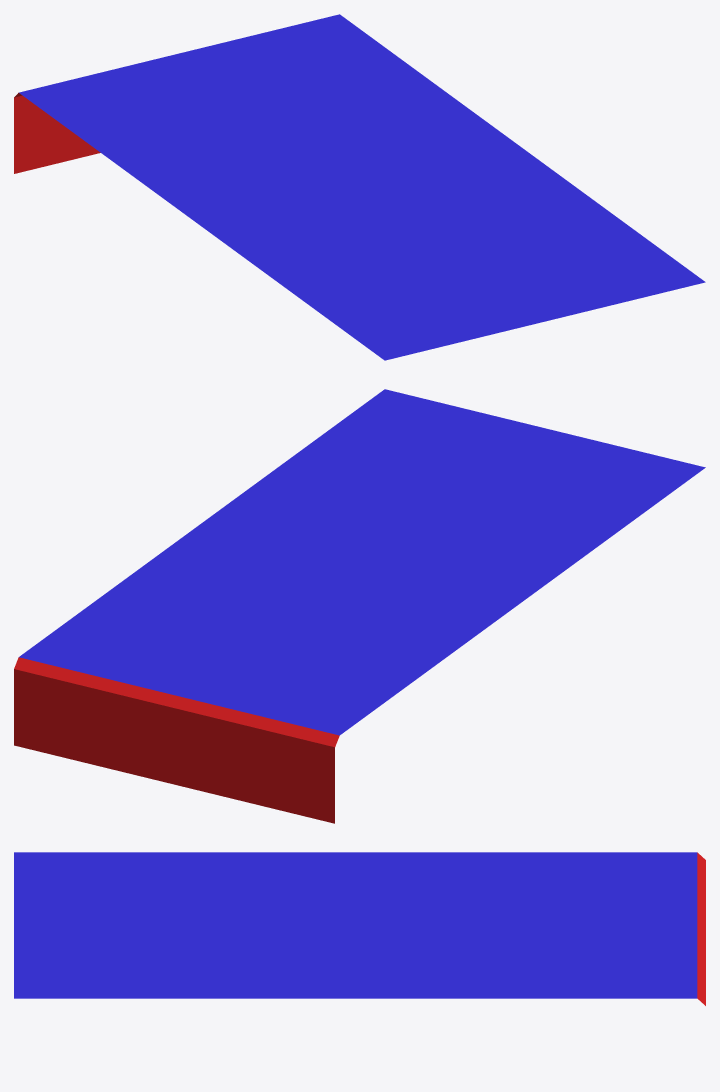
File: SideWalk_incomplete.fbx
3 renders of one model, top to bottom at view 1: azimuth 30°, elevation 25°; view 2: azimuth 150°, elevation 25°; view 3: azimuth 270°, elevation 25°, orthographic. The views are drawn at different scales.
Visible parts, largest first — view 1: Calzada_incompleta; view 2: Calzada_incompleta; view 3: Calzada_incompleta.
Boxes of the visible parts, x1,y1,x2,y2 form: Calzada_incompleta: (14,14,705,360); Calzada_incompleta: (14,389,705,823); Calzada_incompleta: (14,852,705,1005).
Size of the model in its own units: 400 by 101 by 800.
